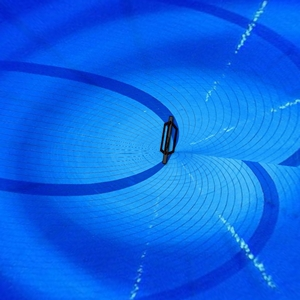submarine: (154, 114, 182, 170)
